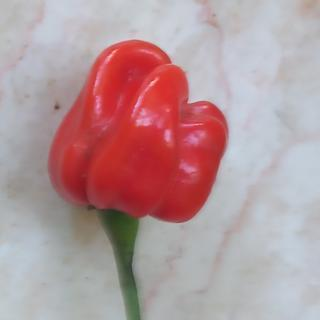Grade-B: (40, 35, 232, 226)
